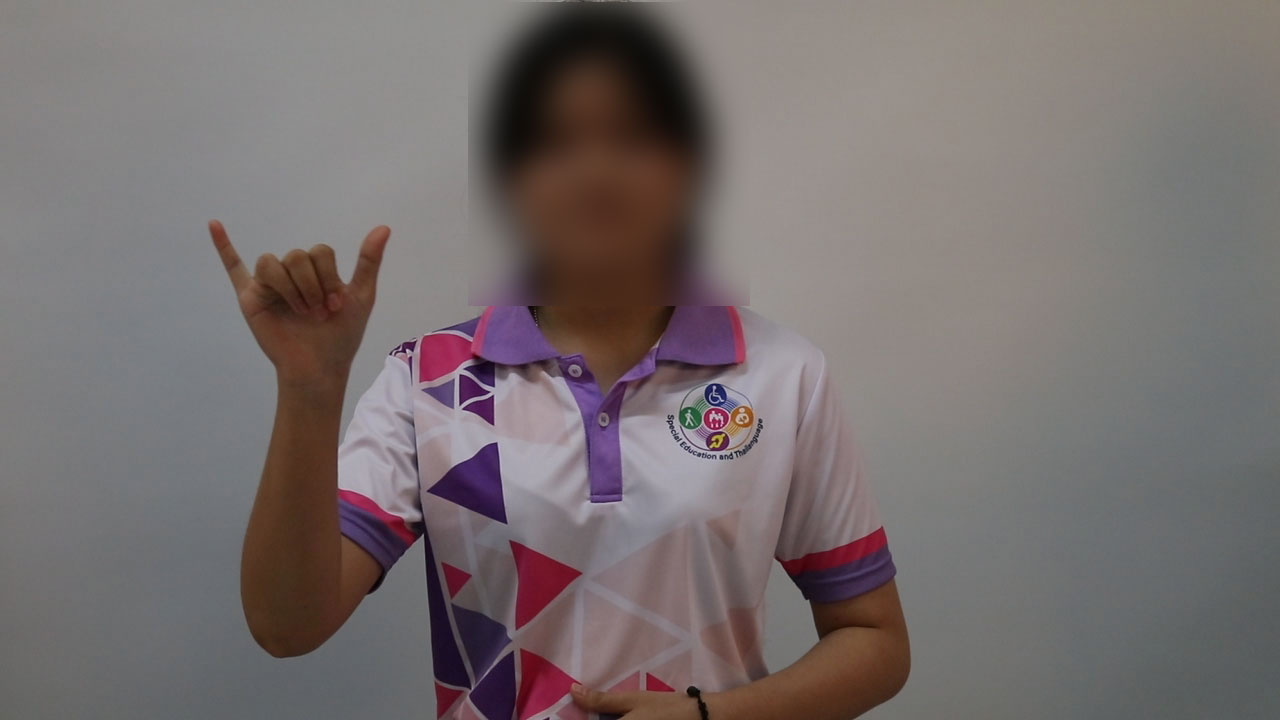yor: (189, 207, 413, 396)
